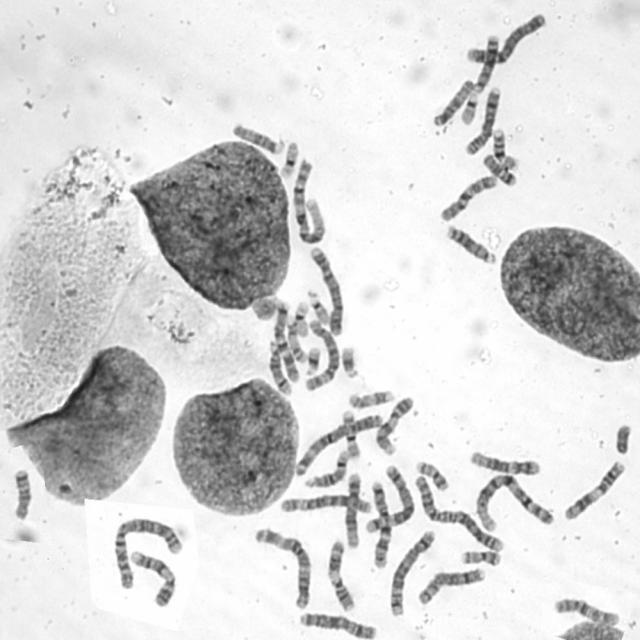A1: (473, 471, 555, 534), (290, 156, 328, 246)
A2: (411, 473, 506, 554), (110, 514, 184, 590)
A3: (293, 408, 386, 477), (252, 523, 314, 612)
B4: (464, 10, 547, 66), (309, 242, 346, 337)
B5: (386, 526, 436, 618), (362, 462, 417, 534)
C10: (437, 172, 498, 224), (552, 594, 622, 628)
C11: (560, 457, 628, 523), (324, 536, 357, 614)
C12: (466, 447, 542, 477), (342, 470, 363, 550)
C6: (303, 317, 341, 393), (275, 490, 375, 515)
C7: (270, 298, 302, 388), (366, 476, 394, 572)
C8: (414, 564, 488, 607), (463, 82, 502, 157)
C9: (126, 546, 177, 607), (372, 393, 416, 455)
D13: (443, 221, 498, 267), (470, 32, 502, 95)
D14: (302, 445, 351, 490), (265, 337, 294, 397)
D15: (430, 76, 476, 128), (228, 118, 286, 156)
E16: (490, 125, 520, 173), (340, 405, 362, 461)
E17: (345, 386, 397, 410), (284, 316, 307, 365)
E18: (480, 152, 518, 188), (10, 465, 34, 522)
F19: (278, 138, 300, 180), (291, 298, 311, 339)
F20: (412, 458, 450, 492), (458, 545, 502, 567)
G21: (338, 342, 362, 380), (302, 343, 322, 377)
G22: (304, 286, 332, 326), (458, 91, 480, 128)
X: (297, 610, 379, 640)
Y: (613, 421, 634, 455)
